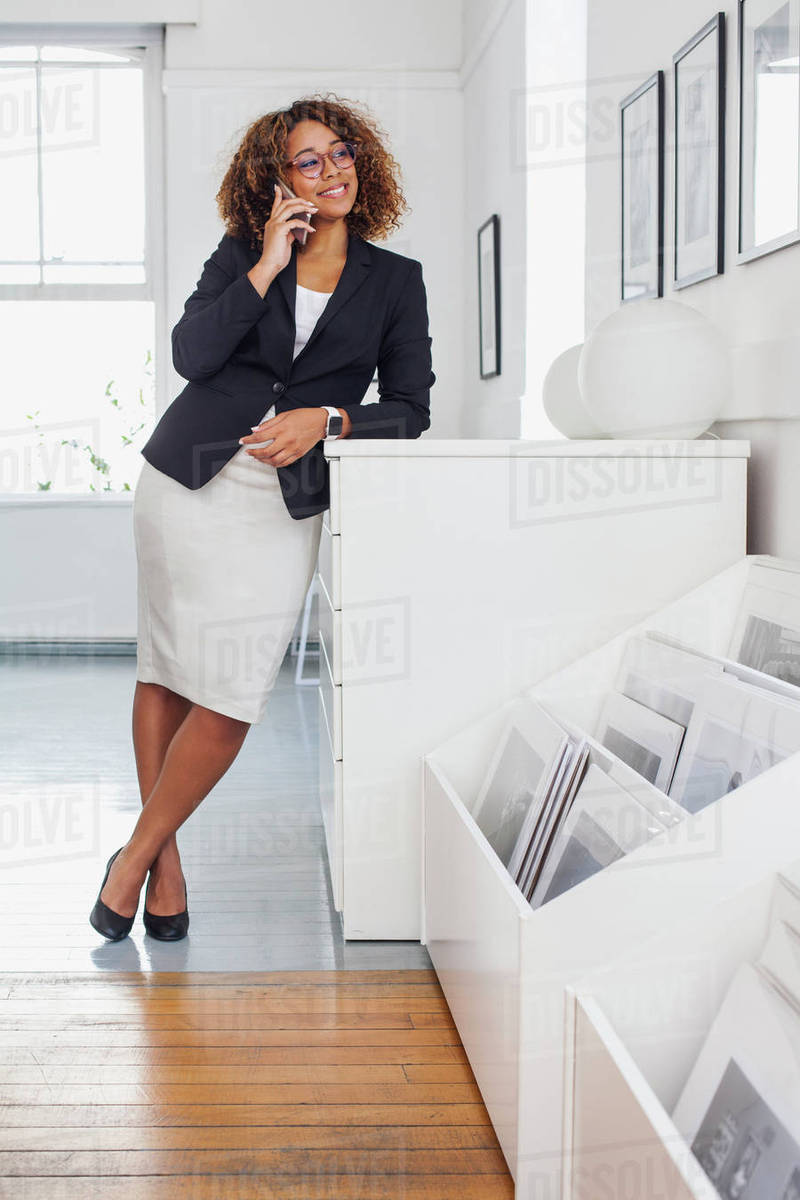phone: (265, 181, 321, 246)
talk: (258, 135, 361, 262)
